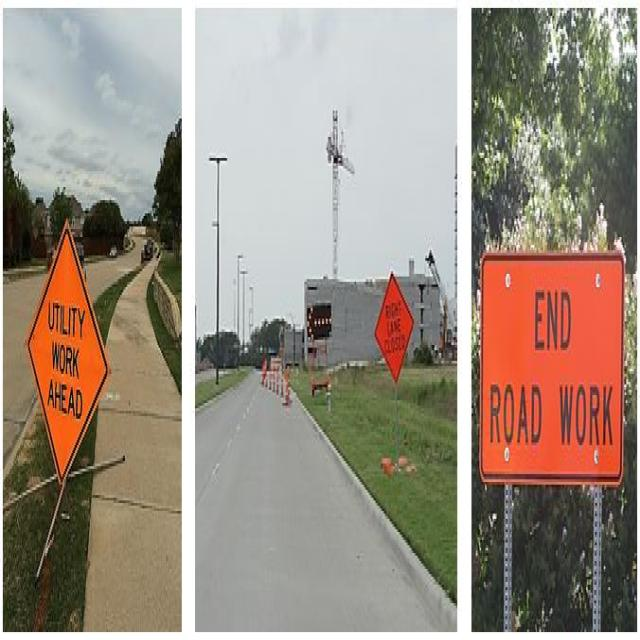roadwork: (26, 208, 112, 495)
